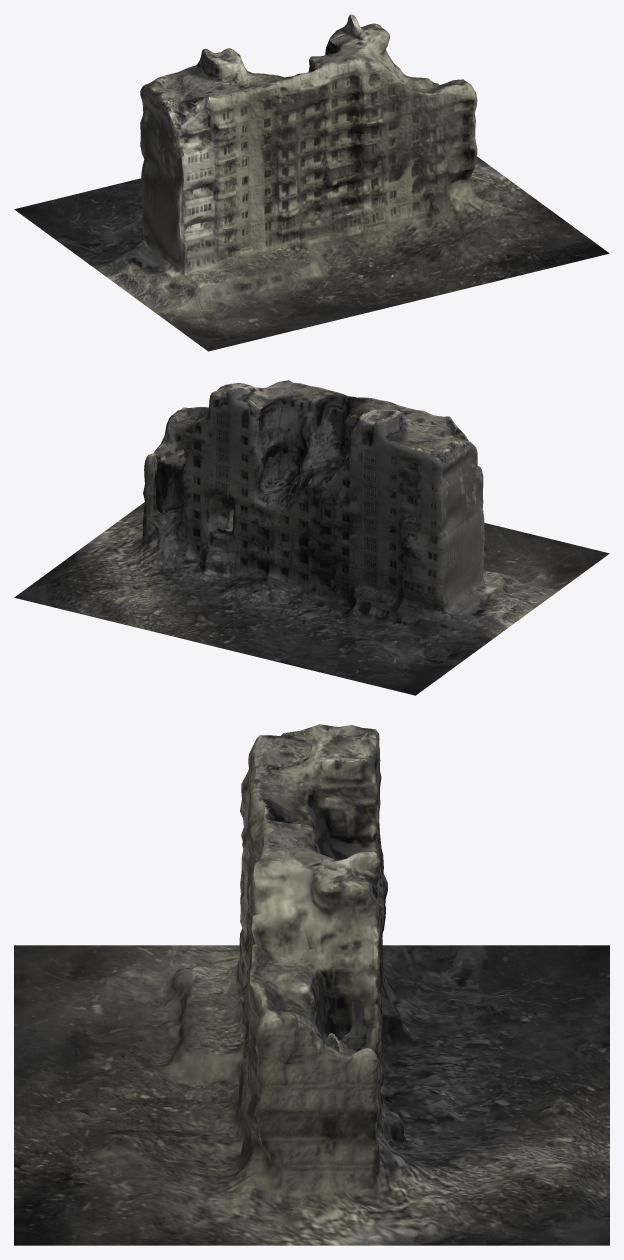
File: house_2.gltf
The picture shows the model from 3 angles, top to bottom: view 1: azimuth 30°, elevation 25°; view 2: azimuth 150°, elevation 25°; view 3: azimuth 270°, elevation 25°; orthographic projection. The views are drawn at different scales.
Visible parts, largest first — view 1: Remesh Color Centered - 2; view 2: Remesh Color Centered - 2; view 3: Remesh Color Centered - 2.
Boxes of the visible parts, box(x1,y1,x2,y2) form: Remesh Color Centered - 2: box(14, 14, 609, 351); Remesh Color Centered - 2: box(14, 380, 609, 695); Remesh Color Centered - 2: box(14, 724, 609, 1245).
Bounding box in the file's own units: 1 × 0.4798 × 0.8381.
Materials: 1 (1 with a texture image).
